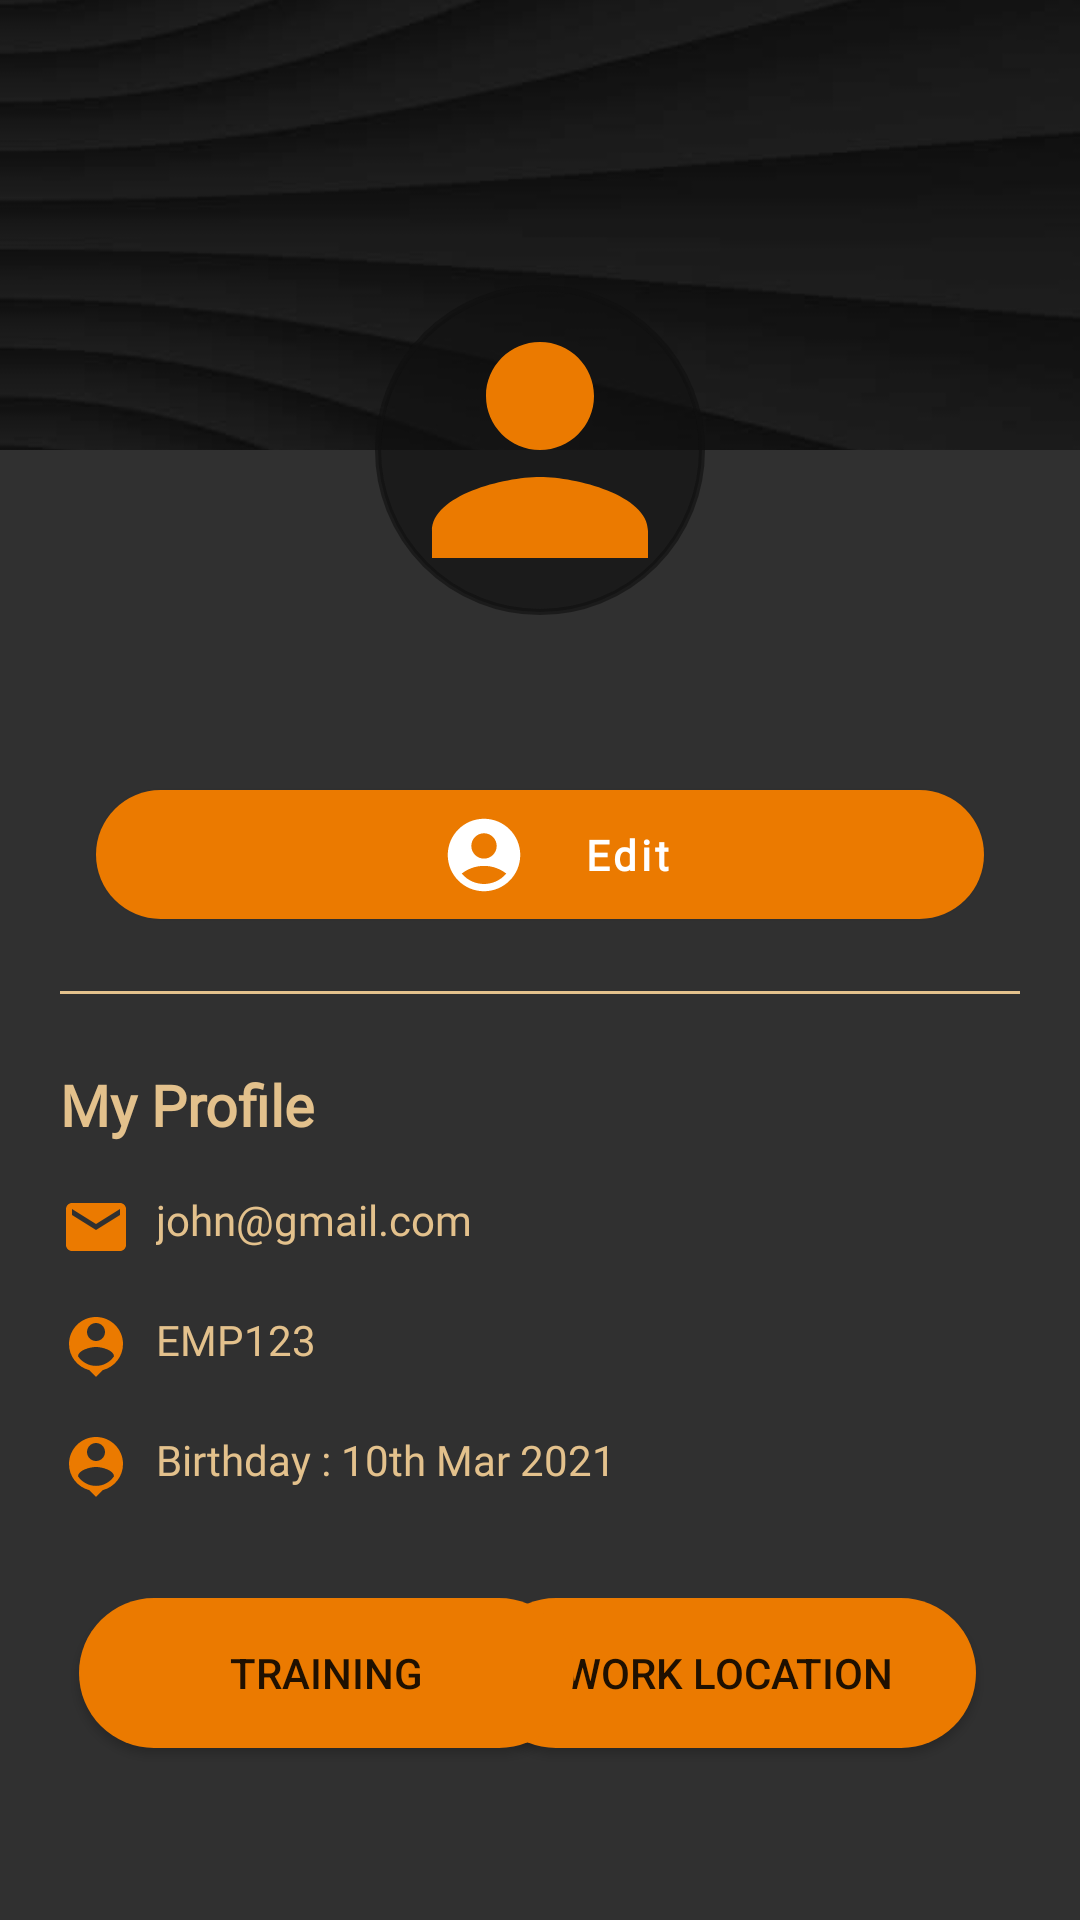

Where icons sit on this 1080×1920 app screen, as [x1, y1, x2, y2]:
user: [372, 282, 708, 612]
